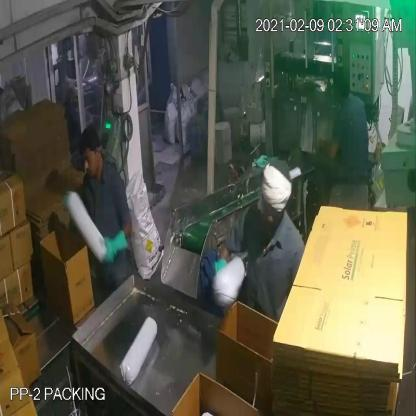glove: (92, 222, 132, 270)
no_glove: (311, 118, 346, 159)
